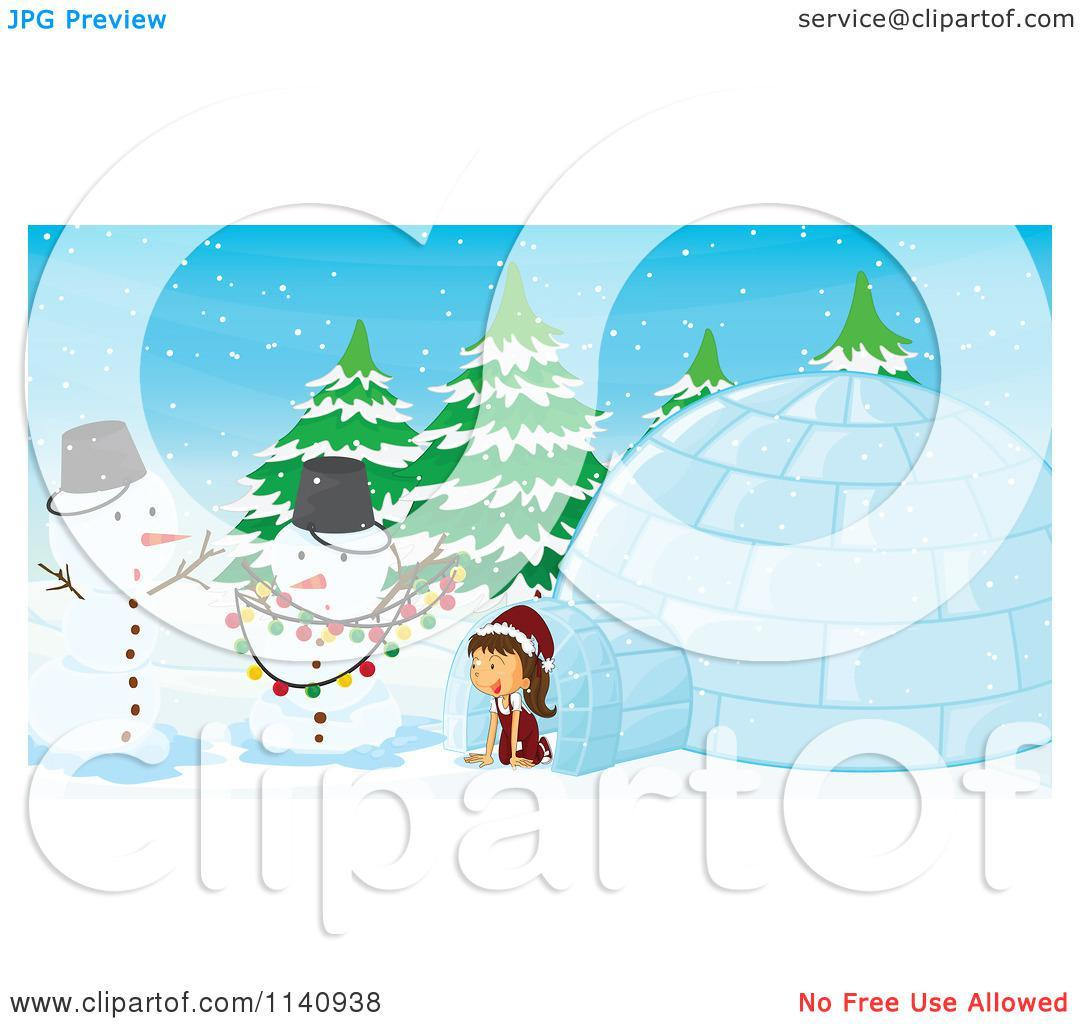person: (456, 606, 570, 773)
